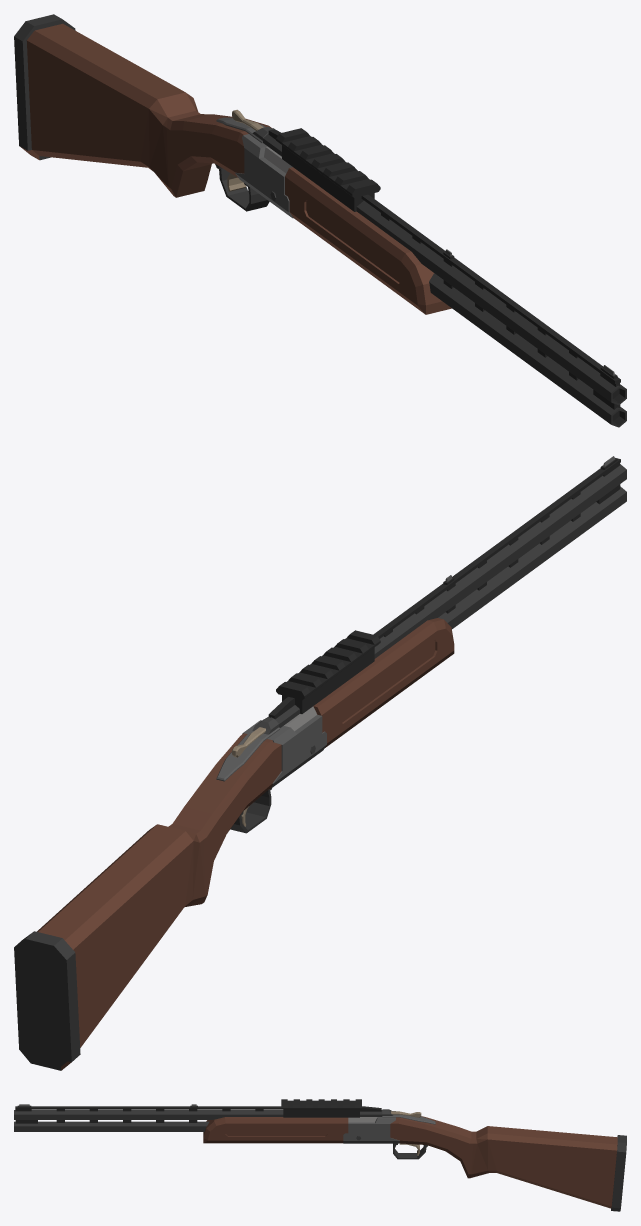
Rendered from ShotGun_E.fbx.
The picture shows the model from 3 angles, top to bottom: view 1: azimuth 30°, elevation 25°; view 2: azimuth 150°, elevation 25°; view 3: azimuth 270°, elevation 25°; orthographic projection. The views are drawn at different scales.
Visible parts, largest first — view 1: ShotGun_E_Receiver, ShotGun_E_Barrel, ShotGun_E_BarrelGuard, ShotGun_E_Rail; view 2: ShotGun_E_Receiver, ShotGun_E_Barrel, ShotGun_E_BarrelGuard, ShotGun_E_Rail; view 3: ShotGun_E_Receiver, ShotGun_E_Barrel, ShotGun_E_BarrelGuard, ShotGun_E_Rail.
Boxes of the visible parts, x1,y1,x2,y2 form: ShotGun_E_Receiver: [14, 14, 293, 218]; ShotGun_E_Barrel: [263, 129, 626, 427]; ShotGun_E_BarrelGuard: [264, 146, 451, 314]; ShotGun_E_Rail: [276, 128, 380, 211]; ShotGun_E_Receiver: [14, 714, 326, 1070]; ShotGun_E_Barrel: [268, 456, 626, 727]; ShotGun_E_BarrelGuard: [284, 618, 454, 748]; ShotGun_E_Rail: [276, 630, 380, 713]; ShotGun_E_Receiver: [343, 1109, 626, 1211]; ShotGun_E_Barrel: [14, 1104, 382, 1131]; ShotGun_E_BarrelGuard: [203, 1117, 377, 1143]; ShotGun_E_Rail: [281, 1099, 361, 1117].
Size of the model in its own units: 0.065 by 0.2354 by 1.24.
